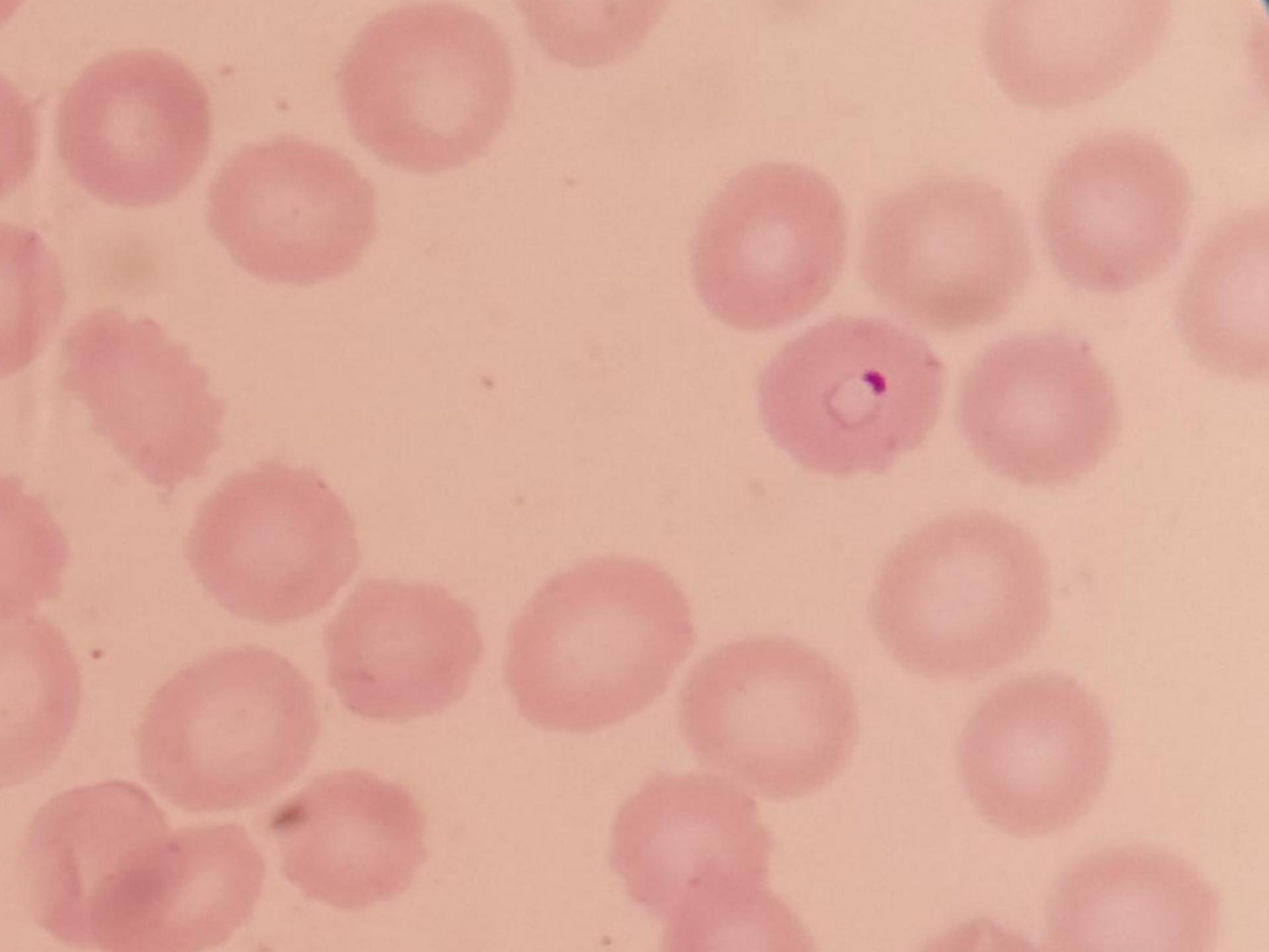Infected: (763, 311, 943, 477)
Uninfected: (506, 559, 688, 734), (867, 514, 1053, 680), (137, 648, 315, 816), (340, 0, 512, 173), (681, 635, 856, 801), (64, 311, 223, 488), (190, 461, 352, 626), (694, 159, 849, 331), (207, 132, 377, 286), (864, 172, 1029, 329), (606, 770, 777, 915), (958, 336, 1120, 487), (58, 50, 208, 212), (1043, 132, 1194, 292), (957, 673, 1108, 830), (322, 580, 481, 723), (91, 821, 257, 952), (980, 0, 1174, 110), (286, 772, 425, 908), (1056, 845, 1222, 952)
